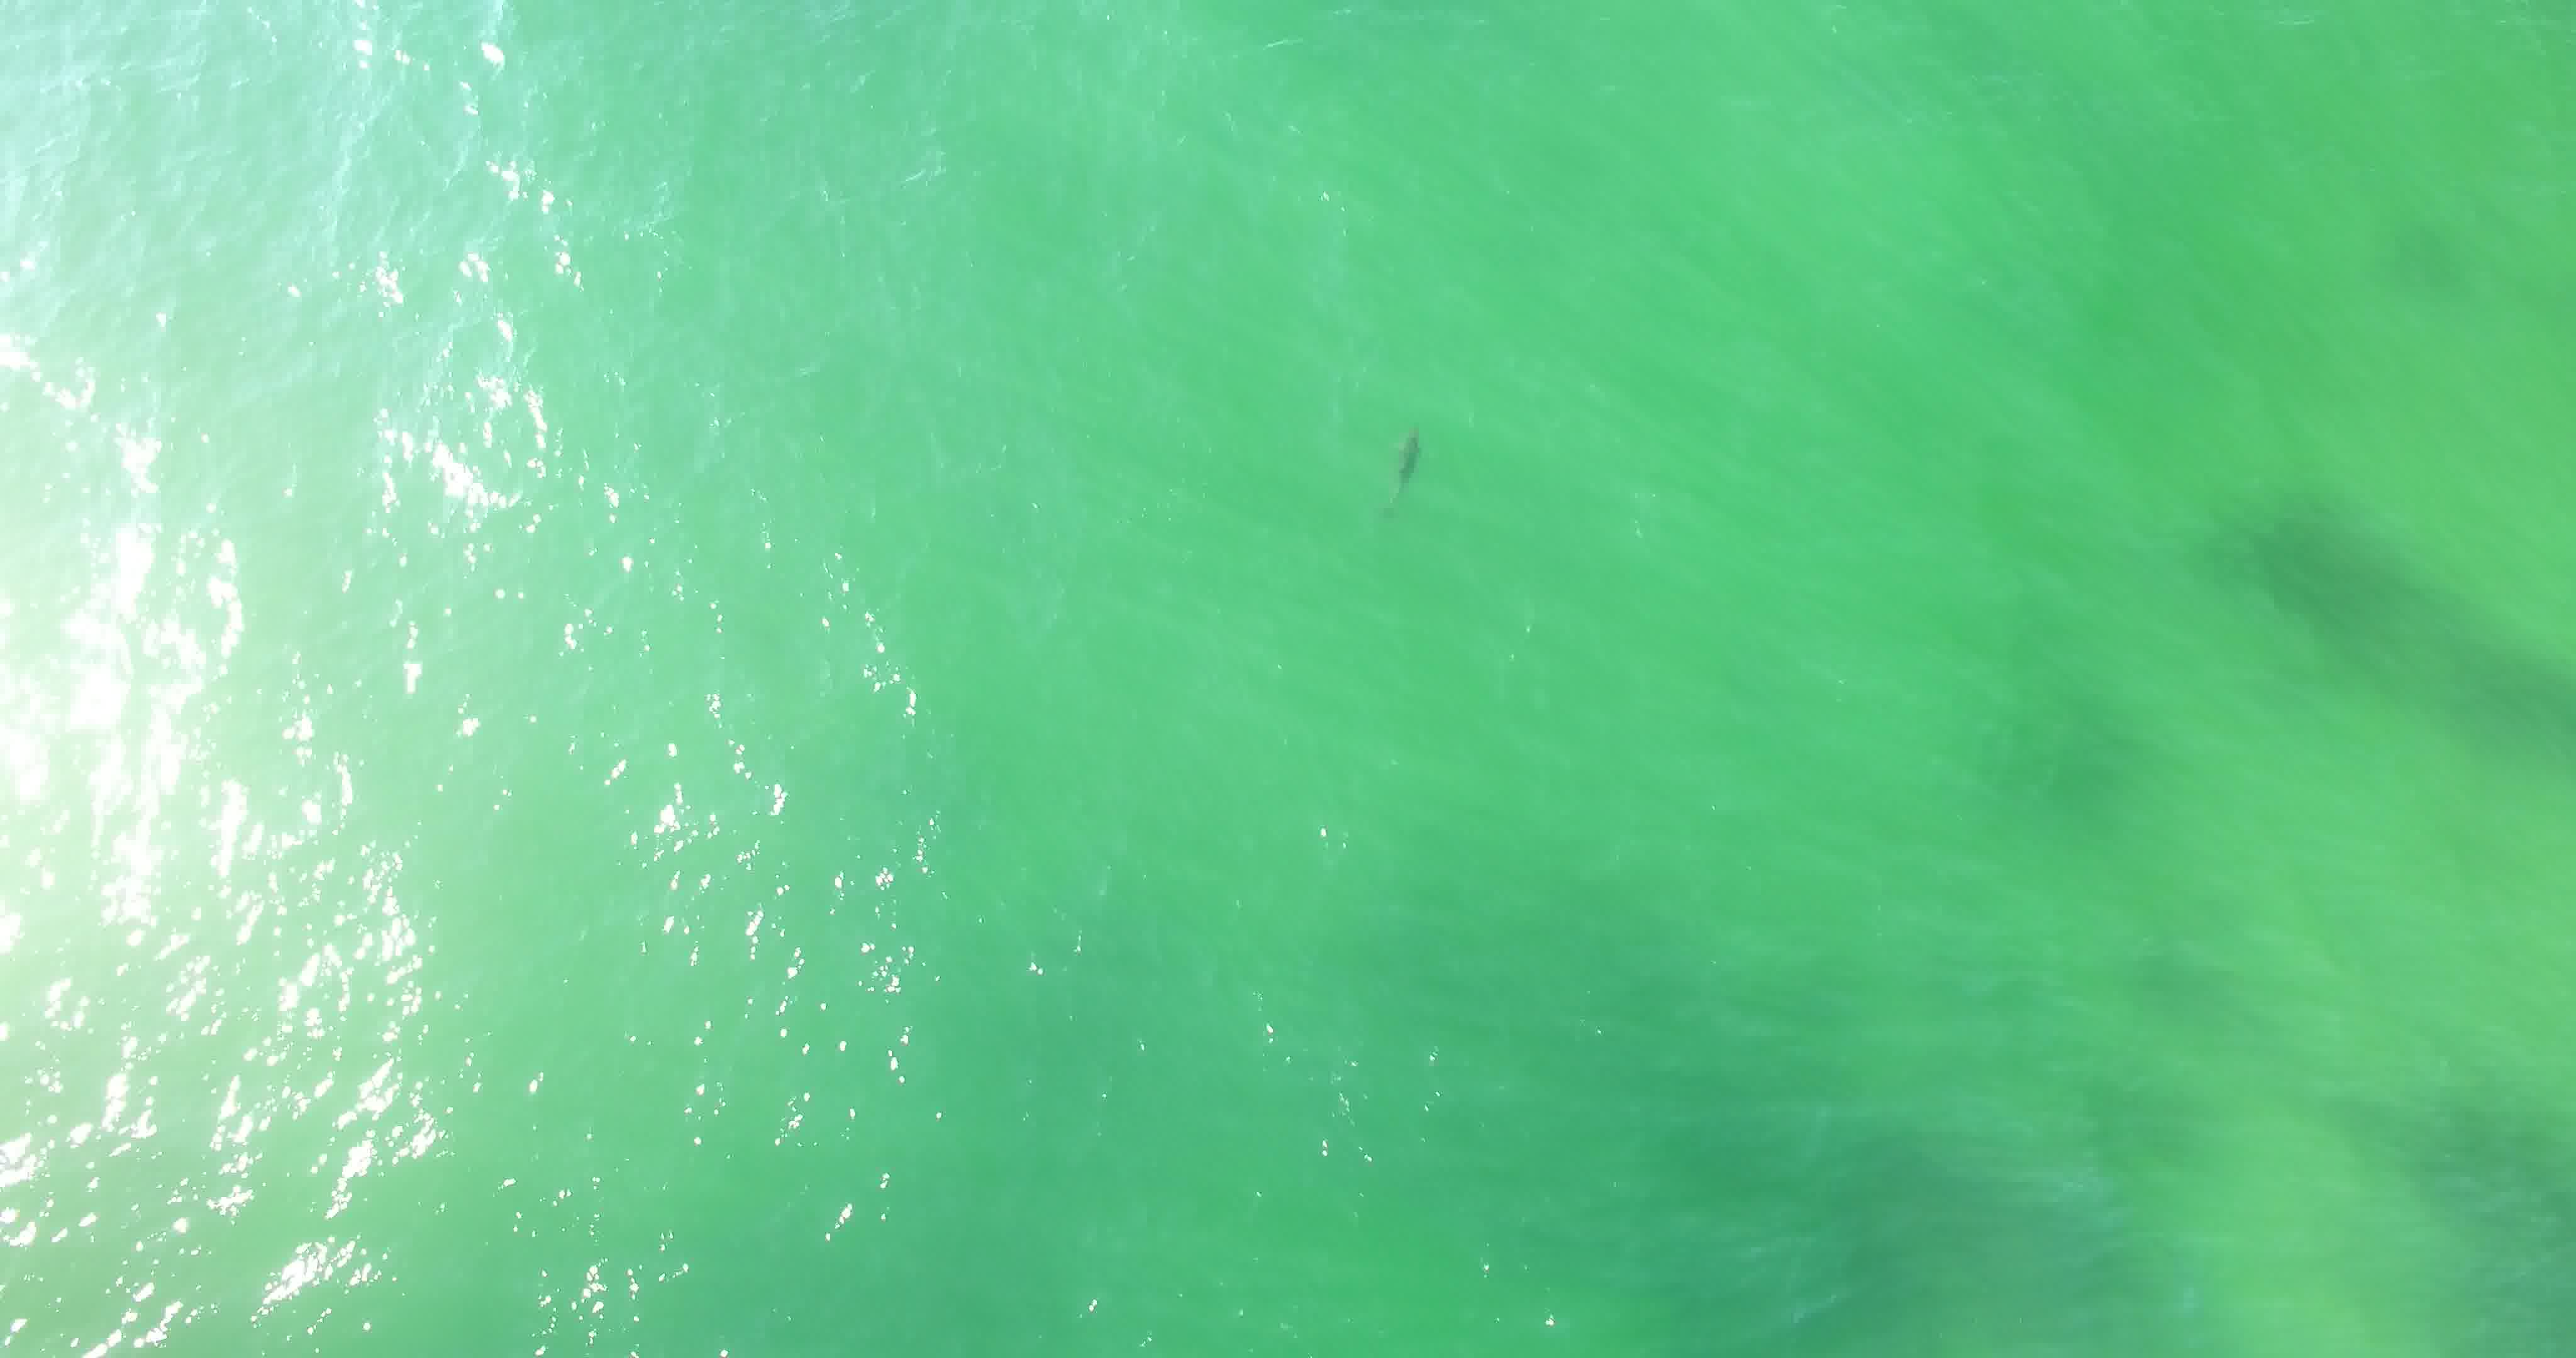dolphin: (1368, 414, 1448, 525)
